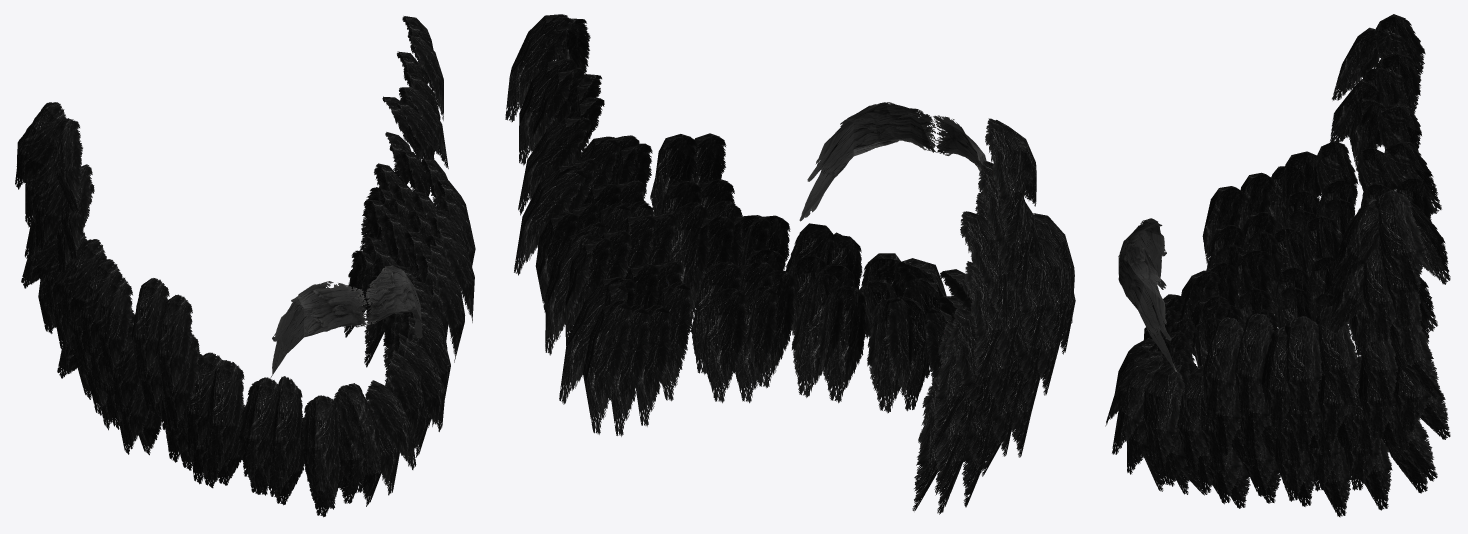
The model's file is ewb_beard_scruffy.glb.
3 renders of one model, left to right at view 1: azimuth 30°, elevation 25°; view 2: azimuth 150°, elevation 25°; view 3: azimuth 270°, elevation 25°, orthographic. The views are drawn at different scales.
Visible parts, largest first — view 1: ewb_beard_scruffy; view 2: ewb_beard_scruffy; view 3: ewb_beard_scruffy.
Part boxes in pixels (bbox=[...]): ewb_beard_scruffy: bbox=[15, 16, 475, 517]; ewb_beard_scruffy: bbox=[505, 14, 1075, 514]; ewb_beard_scruffy: bbox=[1105, 14, 1450, 517].
Bounding box in the file's own units: 0.1698 × 0.1472 × 0.122.
Materials: 1 (1 with a texture image).
